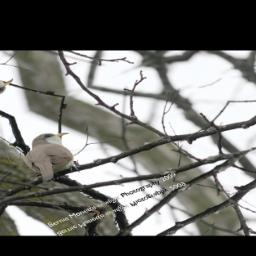Cuckoo: (6, 126, 99, 185)
